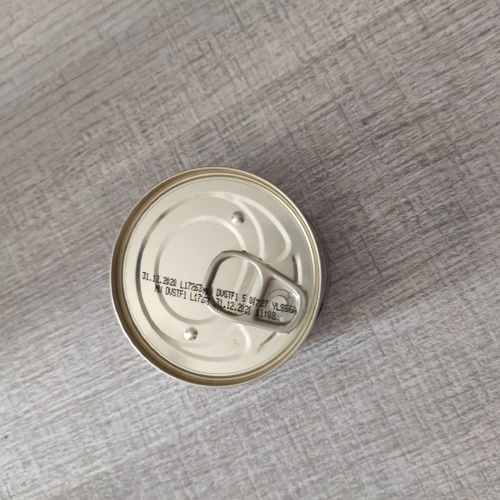tonno: (102, 158, 338, 394)
